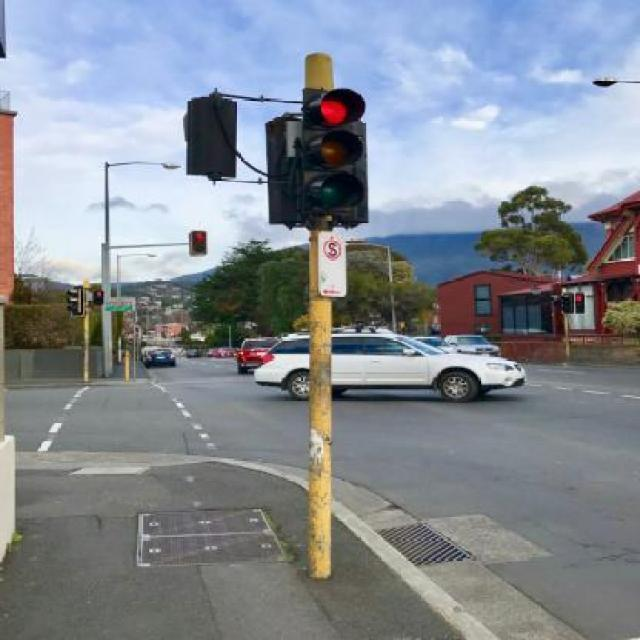red_light: (284, 73, 388, 235)
